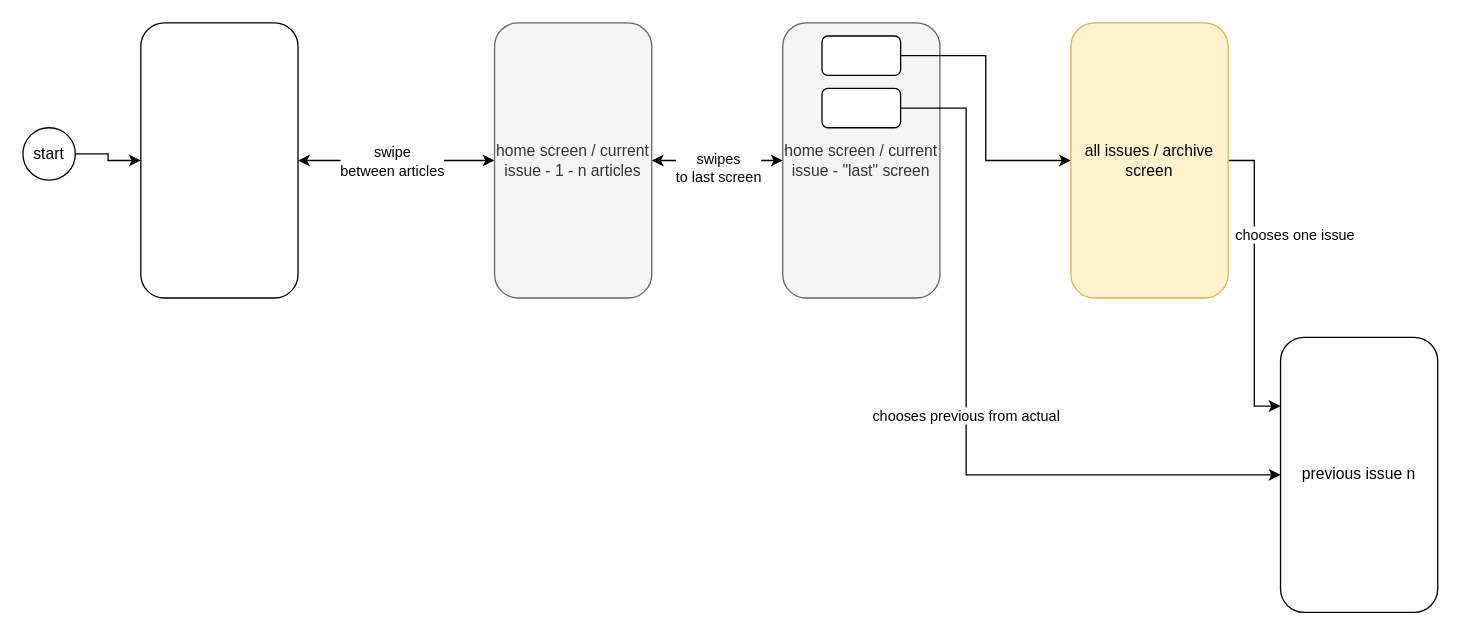
The diagram is 1461 pixels wide and 635 high, and some of its shapes have lost their labels. The centre of each missing label's shape, as x and y in pixels:
"all" belongs at [861,55].
"home screen / current issue - first article" belongs at [219,160].
"previous" belongs at [861,107].
